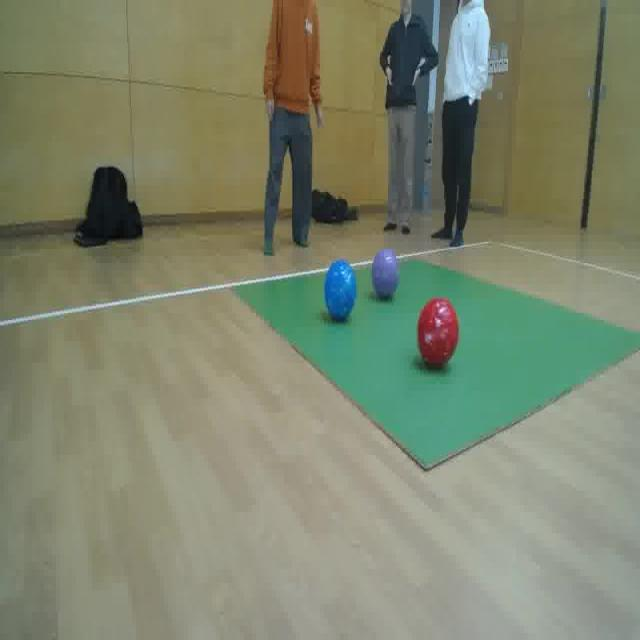blue_ball: (326, 261, 356, 323)
purple_ball: (372, 249, 398, 302)
red_ball: (418, 297, 460, 369)
